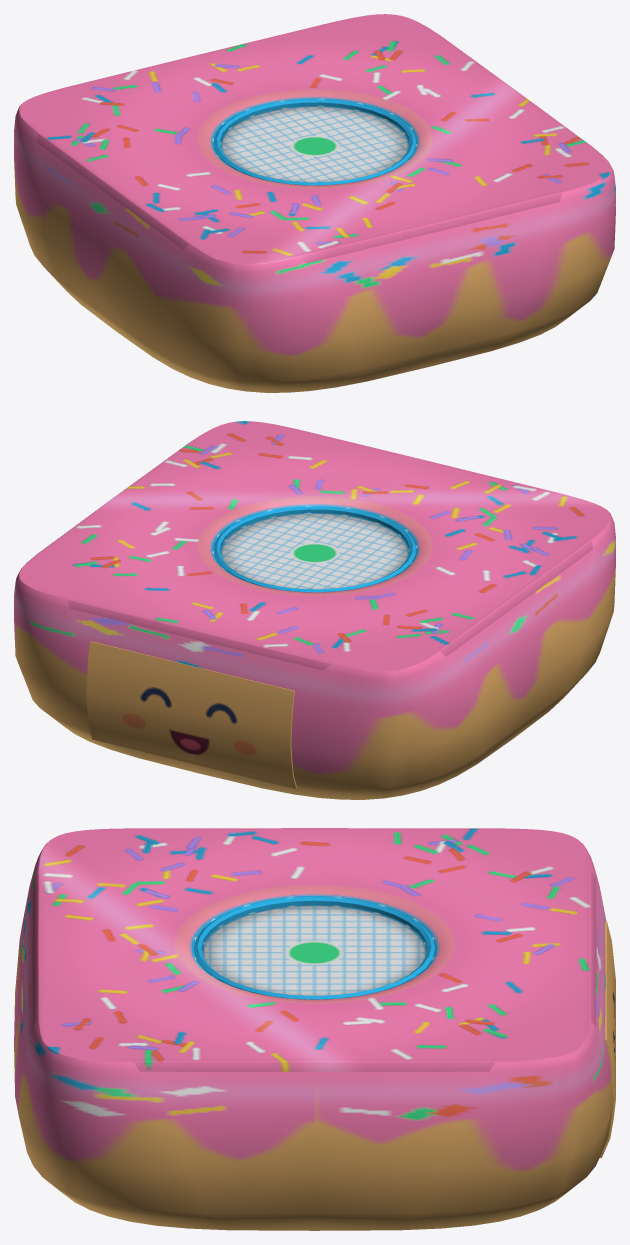
The model's file is pool_donut_ring.glb.
3 renders of one model, top to bottom at view 1: azimuth 30°, elevation 25°; view 2: azimuth 150°, elevation 25°; view 3: azimuth 270°, elevation 25°, orthographic. The views are drawn at different scales.
Visible parts, largest first — view 1: pool_donut_ring_LOD0; view 2: pool_donut_ring_LOD0; view 3: pool_donut_ring_LOD0.
Boxes of the visible parts, x1,y1,x2,y2 form: pool_donut_ring_LOD0: (14, 14, 615, 392); pool_donut_ring_LOD0: (14, 421, 615, 799); pool_donut_ring_LOD0: (14, 828, 615, 1230).
Size of the model in its own units: 9 by 3 by 9.01.
Materials: 1 (1 with a texture image).
